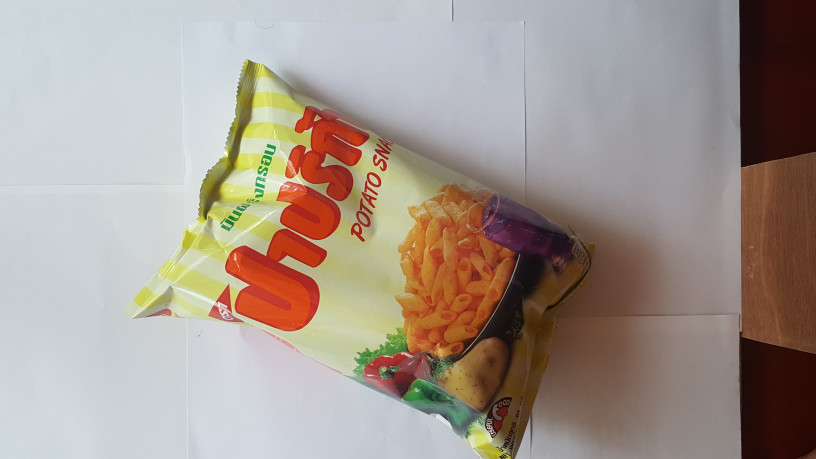paprika: (108, 47, 604, 459)
